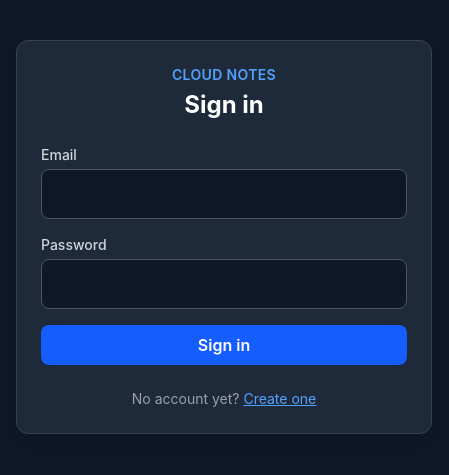
Test: LoginPage › validates required fields on the client
The image size is (449, 475).
Click the button "Sign in": click(224, 345) [41,325,407,365]
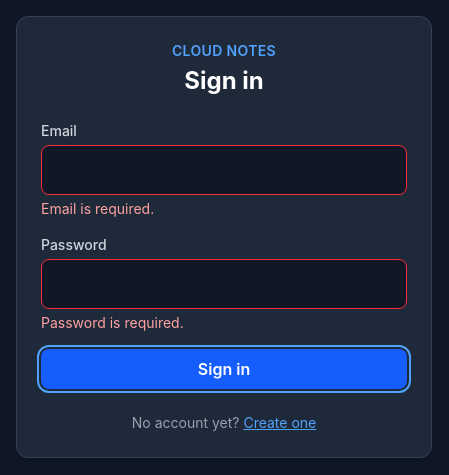
Expected: the text "Email is required." is shown, [41,200,154,217]
Expected: the text "Password is required." is shown, [41,314,184,331]
